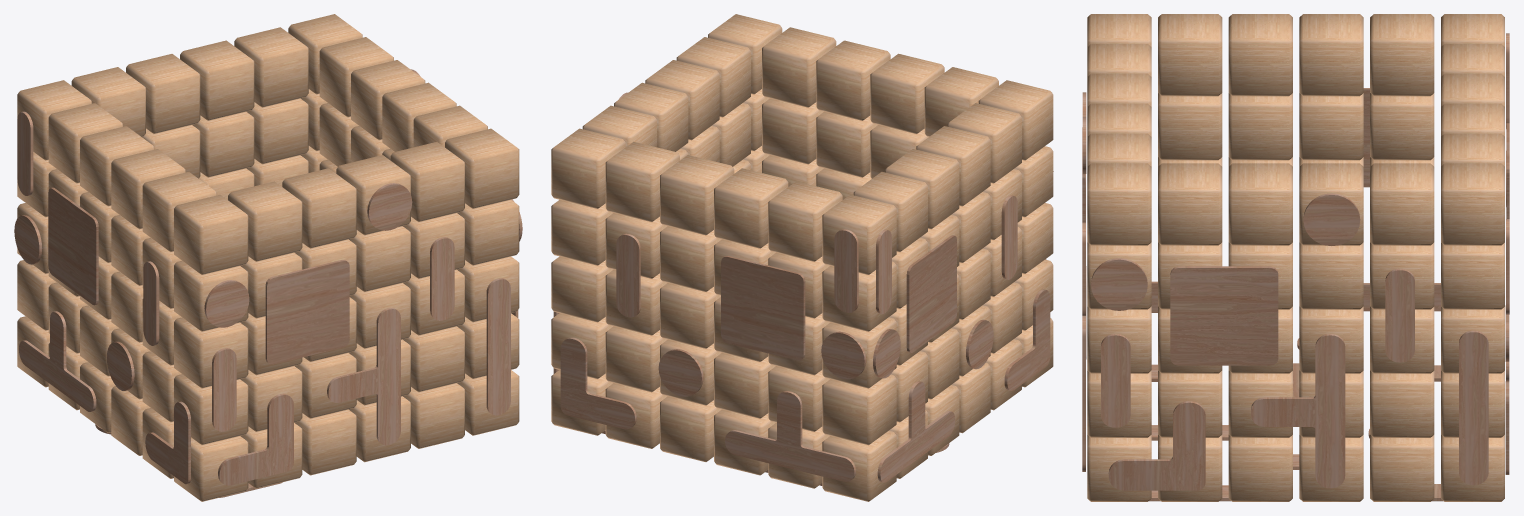
The model's file is level_93.fbx.
The picture shows the model from 3 angles, left to right: view 1: azimuth 30°, elevation 25°; view 2: azimuth 150°, elevation 25°; view 3: azimuth 270°, elevation 25°; orthographic projection. The views are drawn at different scales.
Visible parts, largest first — view 1: obj_obs_square.001, Cube.071, obj_obs_T.001, obj_obs_square.006, Cube.094, Cube.086, Cube.081, Cube.095, Cube.098, Cube.069, Cube.082, Cube.031 (+74 smaller); view 2: obj_obs_square.003, obj_obs_T.004, obj_obs_square.006, Cube.013, Cube.082, Cube.098, Cube.086, Cube.074, Cube.083, Cube.091, Cube.094, Cube.095 (+73 smaller); view 3: obj_obs_square.004, obj_obs_T.008, Cube.070, Cube.100, Cube.078, Cube.079, Cube.081, Cube.085, Cube.090, Cube.099, Cube.083, obj_obs_L.008 (+46 smaller).
Part boxes in pixels (x1,y1,x2,y2): obj_obs_square.001: [265, 260, 349, 364]; Cube.071: [174, 194, 248, 274]; obj_obs_T.001: [327, 308, 400, 445]; obj_obs_square.006: [48, 187, 98, 305]; Cube.094: [282, 168, 356, 248]; Cube.086: [234, 27, 308, 107]; Cube.081: [445, 128, 519, 208]; Cube.095: [180, 40, 254, 120]; Cube.098: [126, 54, 200, 133]; Cube.069: [228, 181, 302, 261]; Cube.082: [390, 142, 464, 221]; Cube.031: [174, 317, 248, 388]; obj_obs_square.003: [721, 255, 805, 360]; obj_obs_T.004: [725, 391, 855, 481]; obj_obs_square.006: [906, 235, 956, 352]; Cube.013: [822, 374, 896, 445]; Cube.082: [762, 27, 836, 107]; Cube.098: [714, 168, 788, 248]; Cube.086: [605, 141, 679, 221]; Cube.074: [768, 181, 842, 261]; Cube.083: [551, 128, 625, 208]; Cube.091: [816, 40, 890, 120]; Cube.094: [870, 53, 944, 133]; Cube.095: [660, 155, 734, 235]; obj_obs_square.004: [1170, 266, 1278, 365]; obj_obs_T.008: [1251, 334, 1345, 488]; Cube.070: [1158, 14, 1222, 96]; Cube.100: [1228, 14, 1292, 96]; Cube.078: [1370, 14, 1434, 96]; Cube.079: [1158, 163, 1222, 245]; Cube.081: [1087, 163, 1151, 245]; Cube.085: [1370, 163, 1434, 245]; Cube.090: [1228, 163, 1292, 245]; Cube.099: [1299, 14, 1363, 96]; Cube.083: [1441, 163, 1504, 245]; obj_obs_L.008: [1108, 401, 1205, 490].
Bounding box in the file's own units: 13.3 × 10.96 × 13.29.
